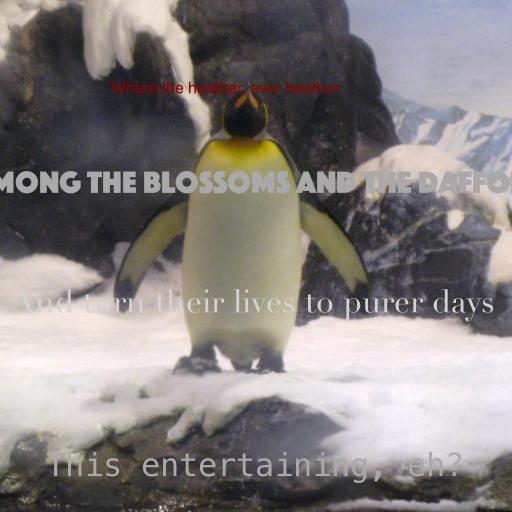Didot: (11, 288, 495, 322)
Impact: (111, 81, 339, 96)
Menlo: (46, 451, 464, 483)
Phosphate: (0, 171, 512, 194)
